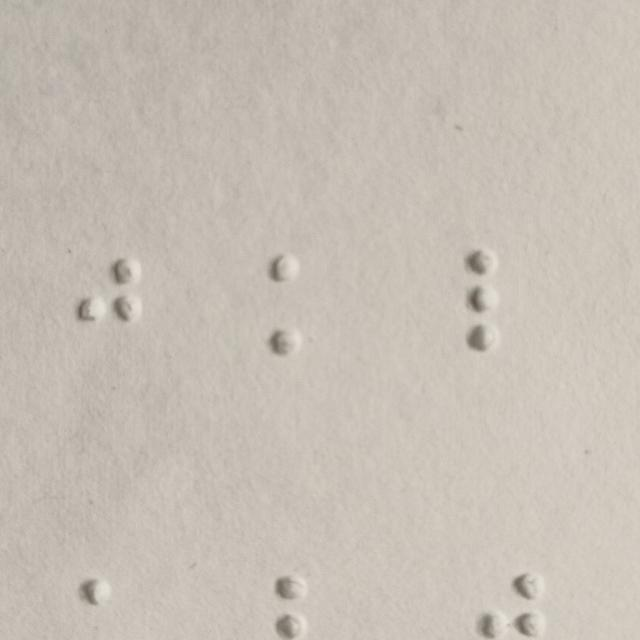j: (72, 255, 142, 369)
k: (267, 248, 337, 362)
l: (463, 245, 533, 359)
